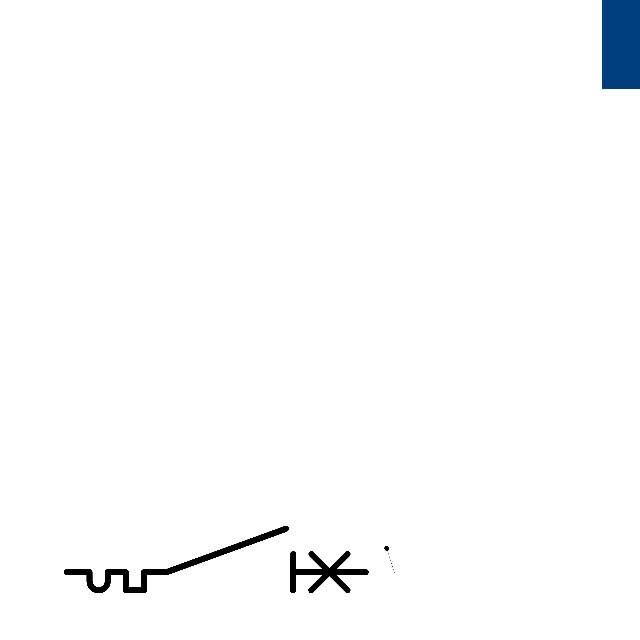interruptor_termomagnetico: (59, 521, 373, 598)
